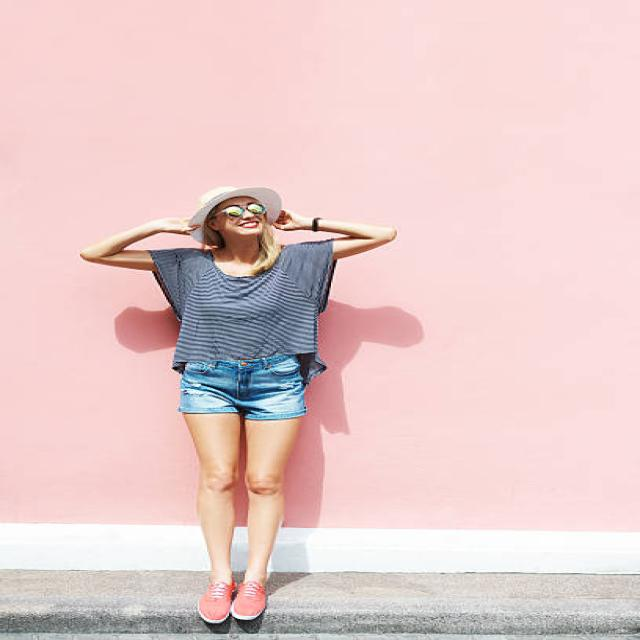Real human 2: (58, 171, 403, 640)
